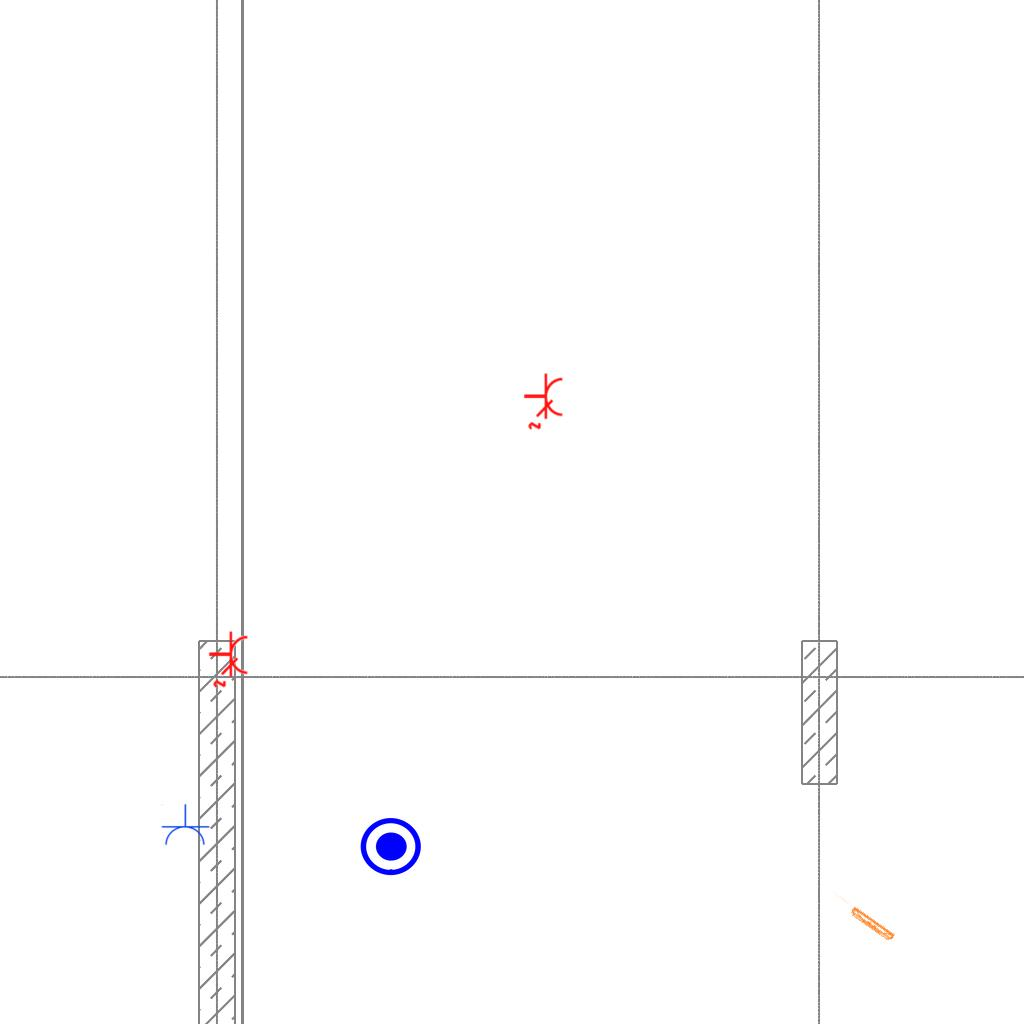Schukosteckdose_einfach: (160, 804, 210, 847)
Schukosteckdose_mehrfach: (206, 629, 250, 689), (521, 371, 565, 431)
Sicherheitsleuchte_Wandeinbau: (826, 889, 898, 946)
Taster: (358, 816, 424, 882)
